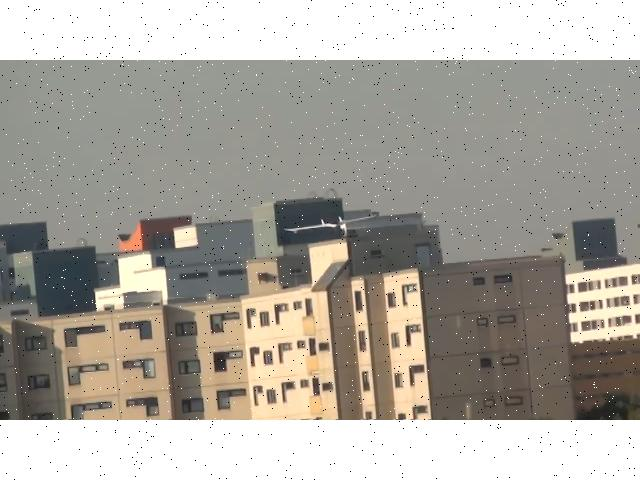Anti-Drone: (264, 201, 396, 255)
